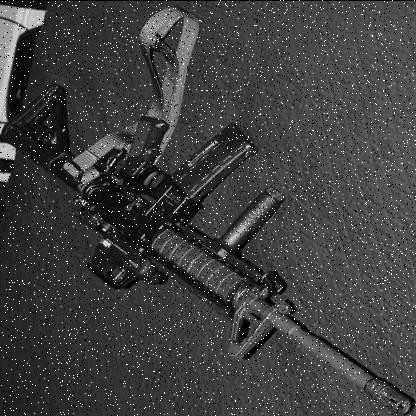rifle: (0, 73, 415, 416)
